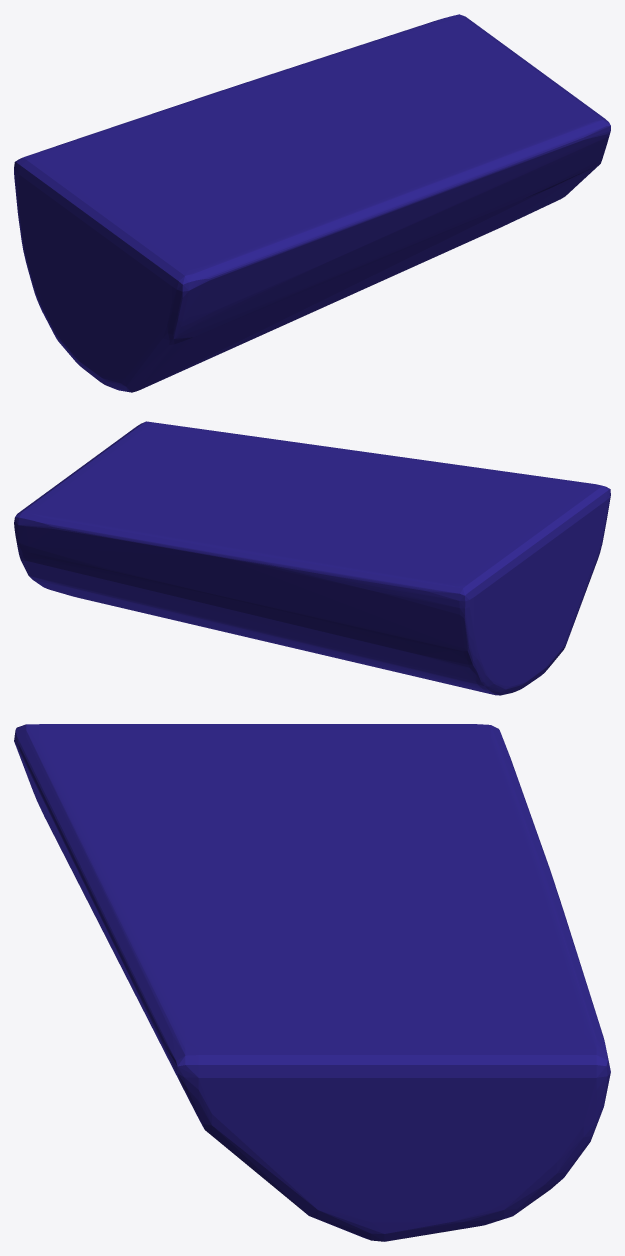
File: right-elbow-0_part_18.obj
3 views of the same model, one above another, from view 1: azimuth 30°, elevation 25°; view 2: azimuth 150°, elevation 25°; view 3: azimuth 270°, elevation 25° (orthographic). The views are drawn at different scales.
Size of the model in its own units: 0.0556 by 0.0179 by 0.0409.
